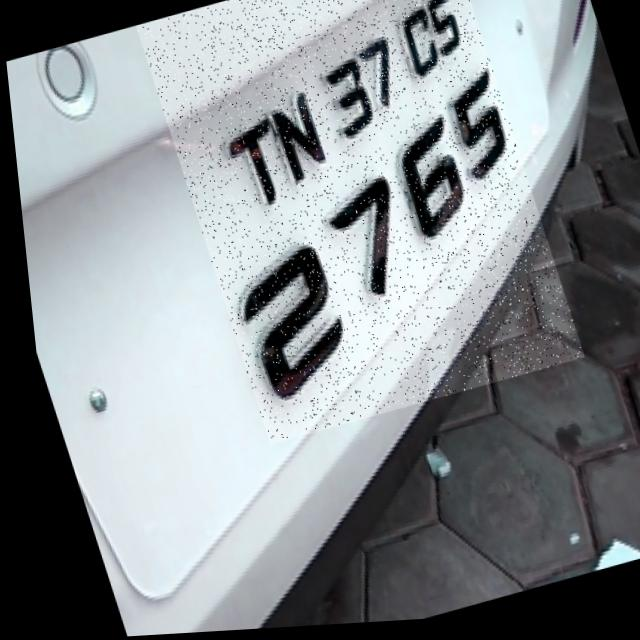license_plate: (132, 0, 581, 451)
